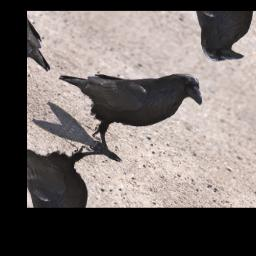Crow: (31, 21, 216, 174)
